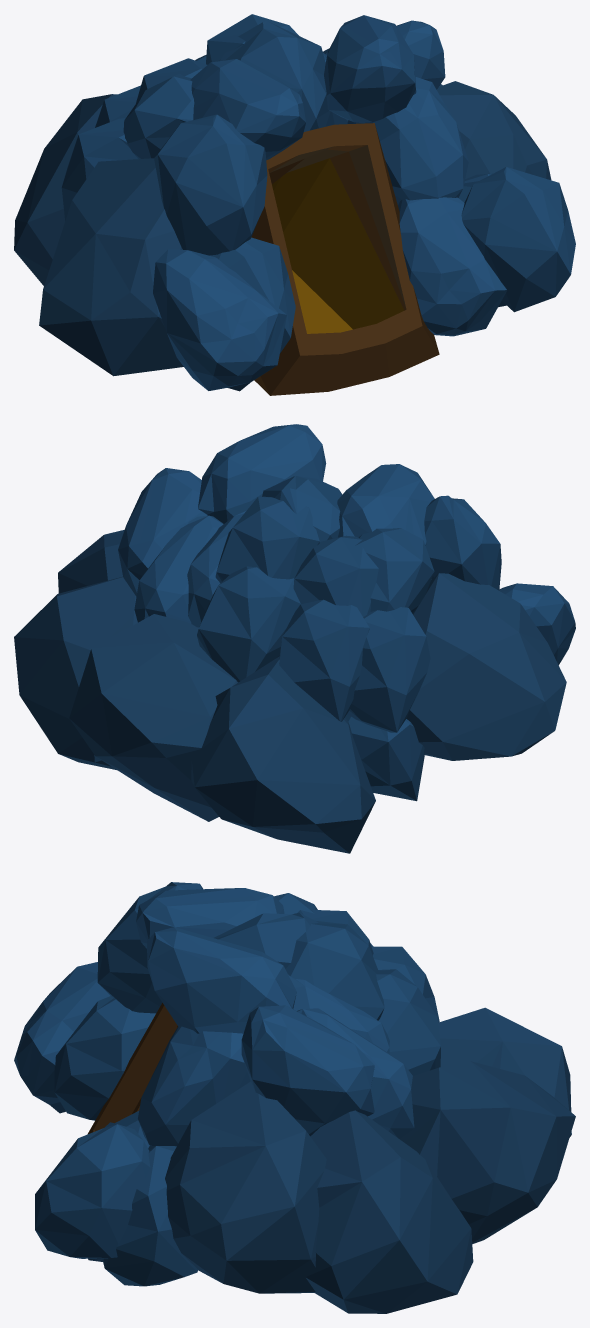
The model's file is Exit.fbx.
3 renders of one model, top to bottom at view 1: azimuth 30°, elevation 25°; view 2: azimuth 150°, elevation 25°; view 3: azimuth 270°, elevation 25°, orthographic. The views are drawn at different scales.
Parts seen in each view (by area): view 1: Landscape.001; view 2: Landscape.001; view 3: Landscape.001.
Boxes of the visible parts, <box> form: Landscape.001: <box>14,14,575,395</box>; Landscape.001: <box>14,424,575,853</box>; Landscape.001: <box>14,882,575,1313</box>.
Size of the model in its own units: 447 by 280 by 400.
